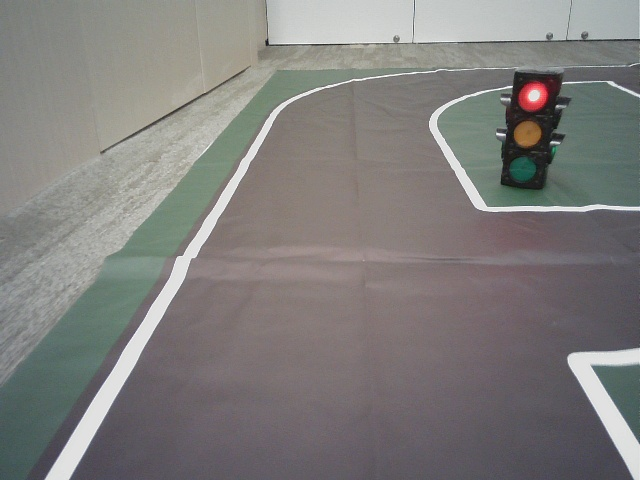red: (505, 78, 547, 187)
